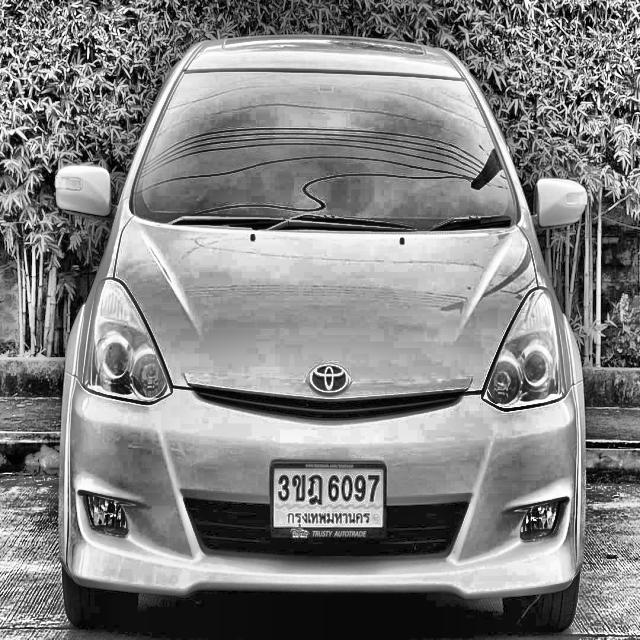license-plate: (269, 456, 389, 544)
